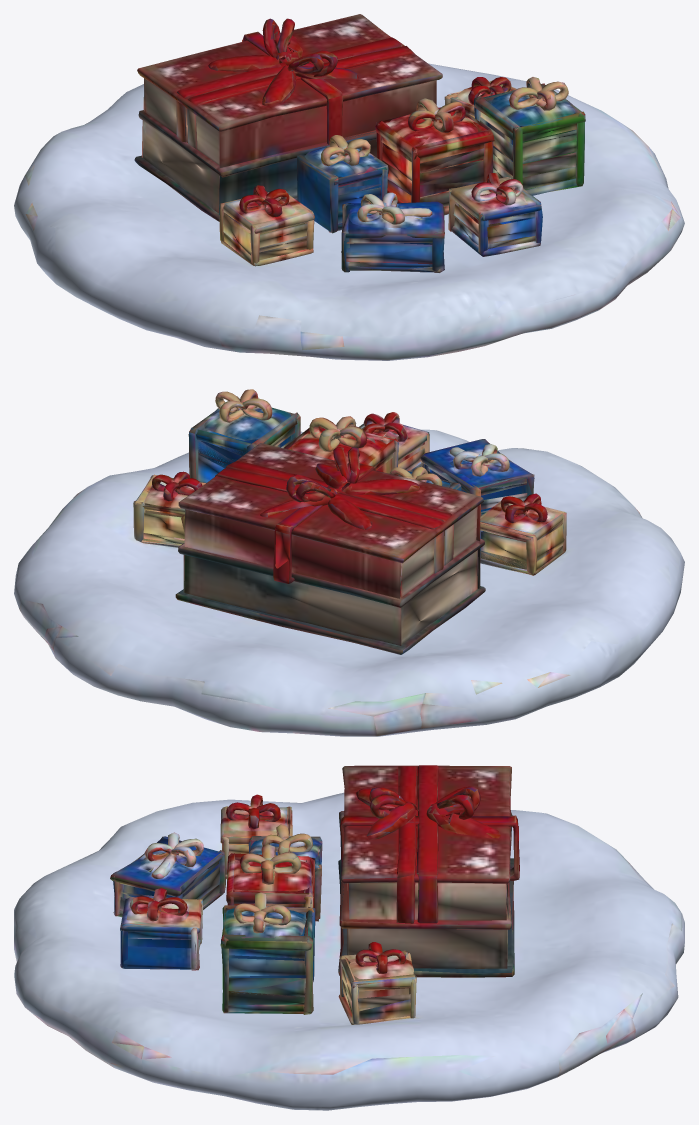
Rendered from p-presents.glb.
3 renders of one model, top to bottom at view 1: azimuth 30°, elevation 25°; view 2: azimuth 150°, elevation 25°; view 3: azimuth 270°, elevation 25°, orthographic. The views are drawn at different scales.
Parts seen in each view (by area): view 1: Mesh_0; view 2: Mesh_0; view 3: Mesh_0.
Part boxes in pixels (box(x1,y1,x2,y2)): Mesh_0: box(14, 14, 684, 360); Mesh_0: box(14, 389, 684, 736); Mesh_0: box(14, 765, 684, 1110).
Bounding box in the file's own units: 1 × 0.2886 × 1.
1 material, 1 textured.
